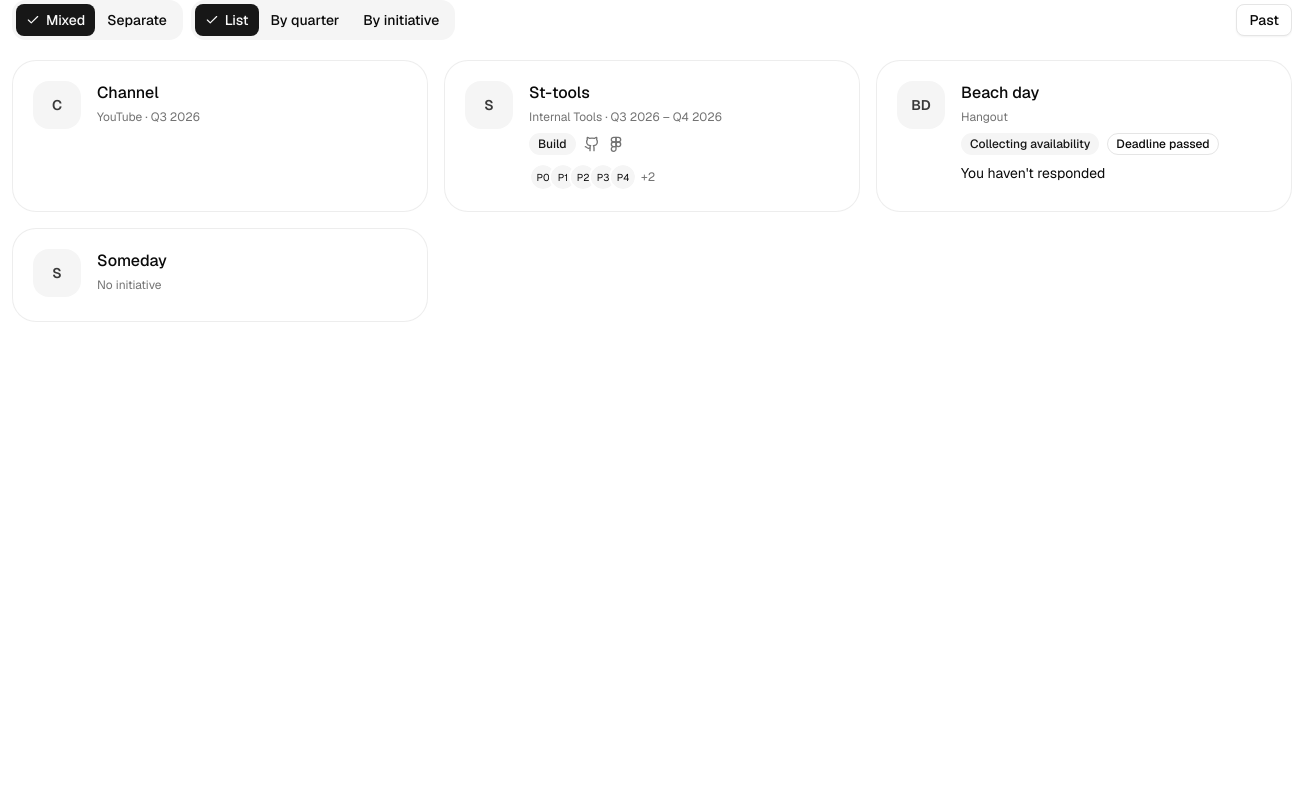
Test: ProjectOverview › mixes hangouts into every view by default
Check: the text "Collecting availability" is shown, box [961,133,1099,155]
What coordinates should you click on to do the following:
click the button "By quarter"
I would click on:
 (305, 20)
Its box is [259,4,351,36].
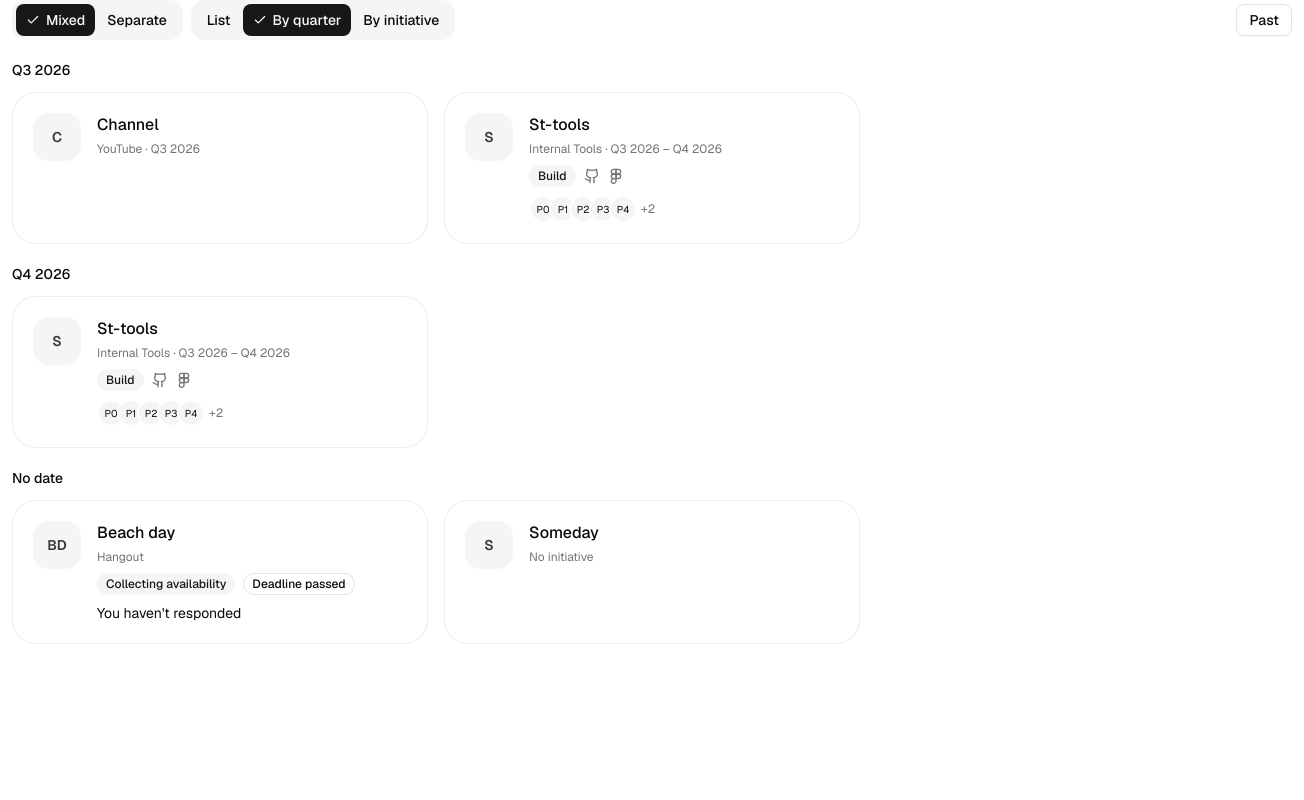
Check: the element "No date" shows "Beach day", box [12,500,428,644]
What coordinates should you click on to do the following:
click the button "By initiative"
I would click on:
 (401, 20)
Its box is [351,4,451,36].
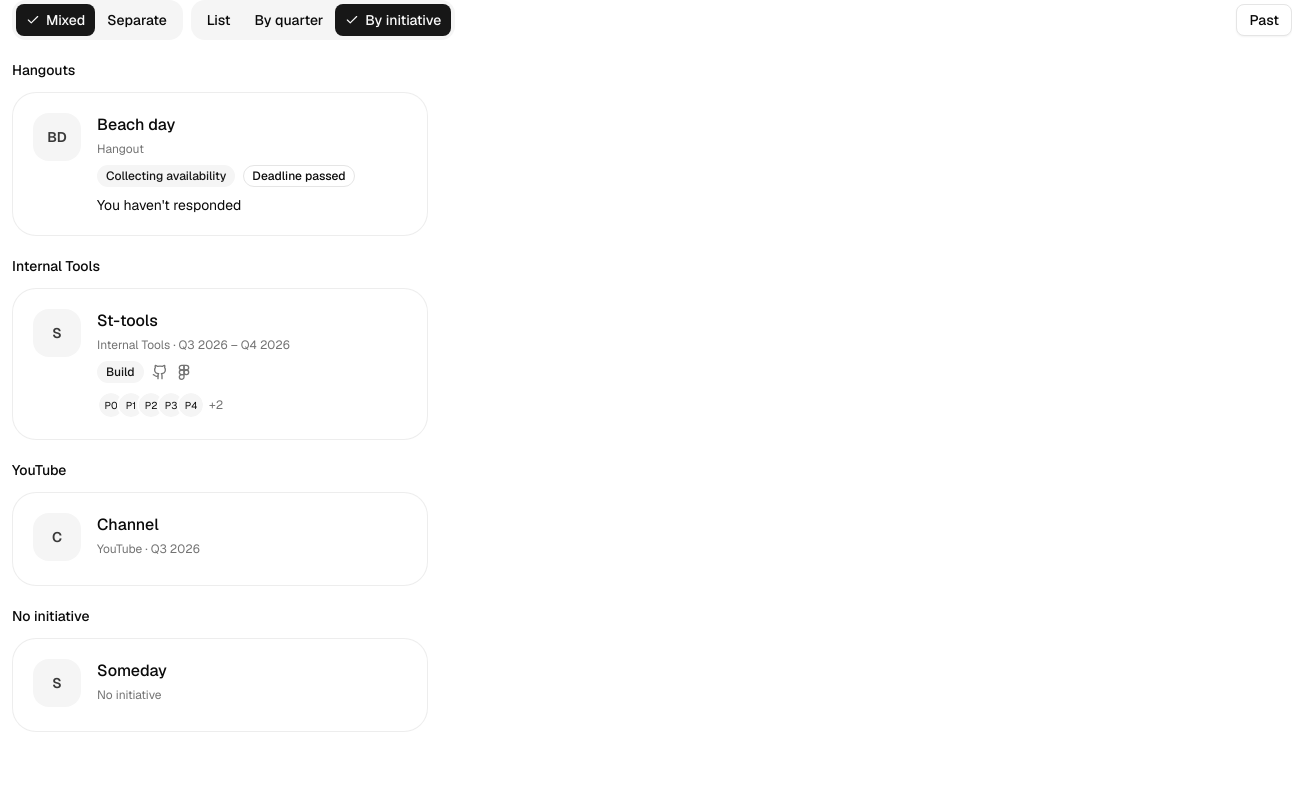
Check: the element "Hangouts" shows "Beach day", box [12,92,428,236]
What coordinates should you click on to do the following:
click the button "Past"
I would click on:
 (1264, 20)
Its box is [1236,4,1292,36].
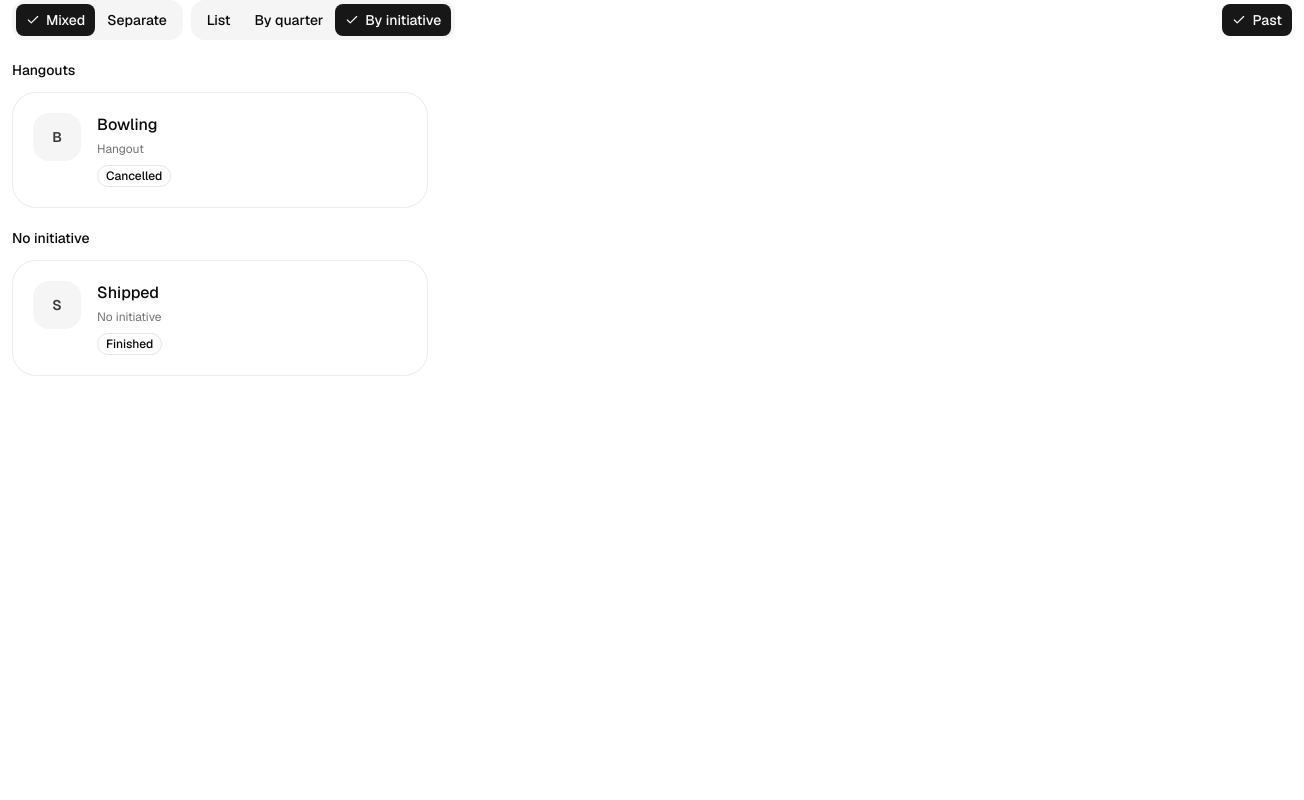
Check: the text "Cancelled" is shown, box [97,165,171,187]
